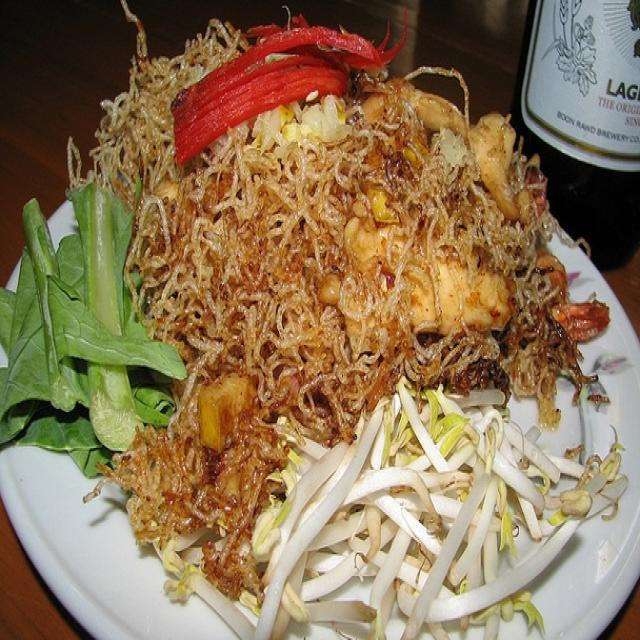面条主食: (40, 16, 616, 621)
